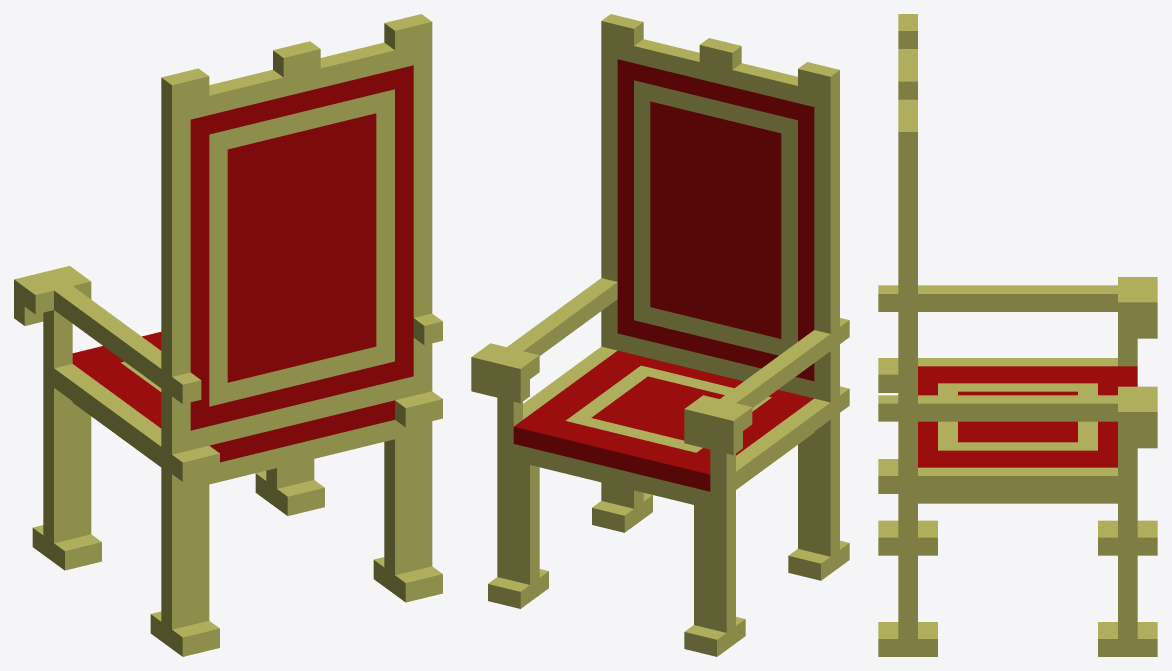
Rendered from Chair4.obj.
3 renders of one model, left to right at view 1: azimuth 30°, elevation 25°; view 2: azimuth 150°, elevation 25°; view 3: azimuth 270°, elevation 25°, orthographic. The views are drawn at different scales.
Bounding box in the file's own units: 1.6 × 2.9 × 1.4.
1 material, 1 textured.
